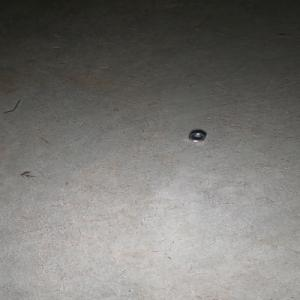Nut: (187, 131, 206, 142)
